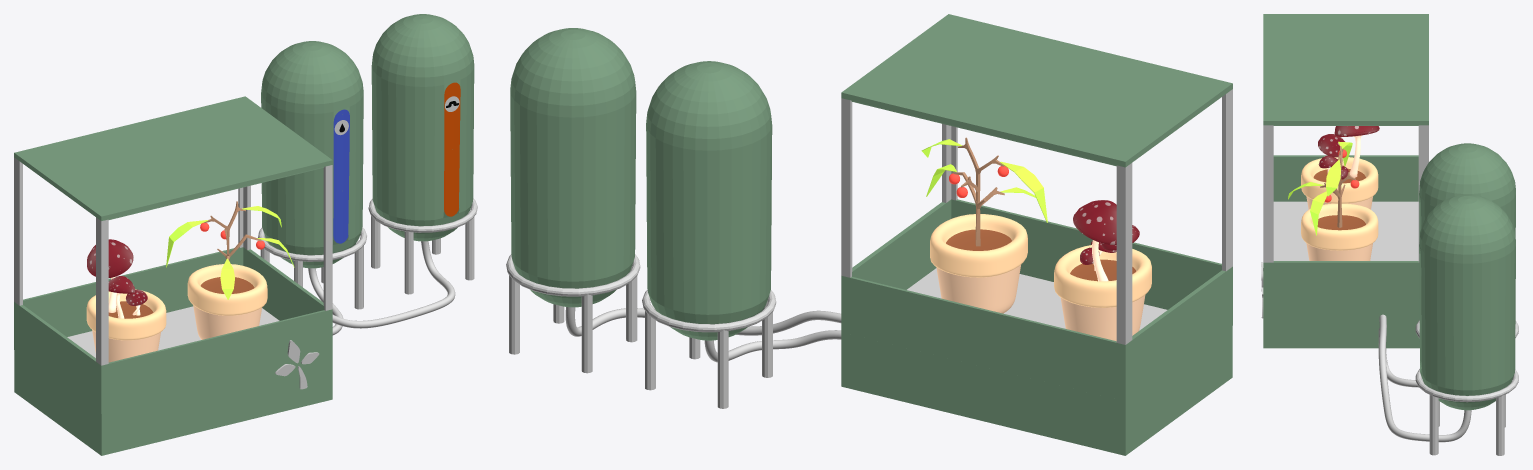
Rendered from EcoStuff.glb.
3 views of the same model, side by side, from view 1: azimuth 30°, elevation 25°; view 2: azimuth 150°, elevation 25°; view 3: azimuth 270°, elevation 25° (orthographic). The views are drawn at different scales.
Visible parts, largest first — view 1: cimaEstuff, Sphere.001, Sphere.003, baixoEstuff, Cube.001_0.001, Sphere.002, Cube.001_0, Sphere.004, Cylinder.001, NurbsPath.001, Cube_0.001, Cogumelão (+8 smaller); view 2: cimaEstuff, Sphere.003, Sphere.001, baixoEstuff, Cube.001_0.001, Cube.001_0, Cylinder.001, Cylinder, Cube_0.001, Cube_0, Cogumelão, NurbsPath.001 (+5 smaller); view 3: cimaEstuff, Sphere.001, baixoEstuff, Sphere.003, Cube.001_0.001, Cube.001_0, NurbsPath.001, Cylinder.001, Torus.001, Cube_0.001, Cogumelão, Cube.021_0.001 (+6 smaller).
Boxes of the visible parts, x1,y1,x2,y2 form: cimaEstuff: (14,96,332,413); Sphere.001: (371,14,474,241); Sphere.003: (261,41,363,268); baixoEstuff: (14,350,332,455); Cube.001_0.001: (187,264,267,315); Sphere.002: (333,109,349,243); Cube.001_0: (86,289,166,340); Sphere.004: (444,82,460,216); Cylinder.001: (371,209,474,294); NurbsPath.001: (332,241,455,328); Cube_0.001: (193,305,261,339); Cogumelão: (87,239,133,312); cimaEstuff: (841,14,1232,403); Sphere.003: (646,61,772,340); Sphere.001: (510,28,636,307); baixoEstuff: (841,273,1232,455); Cube.001_0.001: (930,214,1027,277); Cube.001_0: (1054,245,1151,307); Cylinder.001: (509,266,637,373); Cylinder: (645,300,772,408); Cube_0.001: (936,264,1021,313); Cube_0: (1060,295,1145,341); Cogumelão: (1073,200,1116,281); NurbsPath.001: (565,307,841,336); cimaEstuff: (1263,14,1428,306); Sphere.001: (1419,194,1515,410); baixoEstuff: (1263,200,1419,348); Sphere.003: (1419,143,1515,241); Cube.001_0.001: (1301,203,1378,250); Cube.001_0: (1301,157,1378,203); NurbsPath.001: (1378,314,1471,442); Cylinder.001: (1429,394,1505,455); Torus.001: (1415,369,1518,402); Cube_0.001: (1306,243,1372,260); Cogumelão: (1334,126,1379,177); Cube.021_0.001: (1317,215,1365,230).
Bounding box in the file's own units: 17.24 × 8.85 × 8.51.
13 materials, 1 textured.
